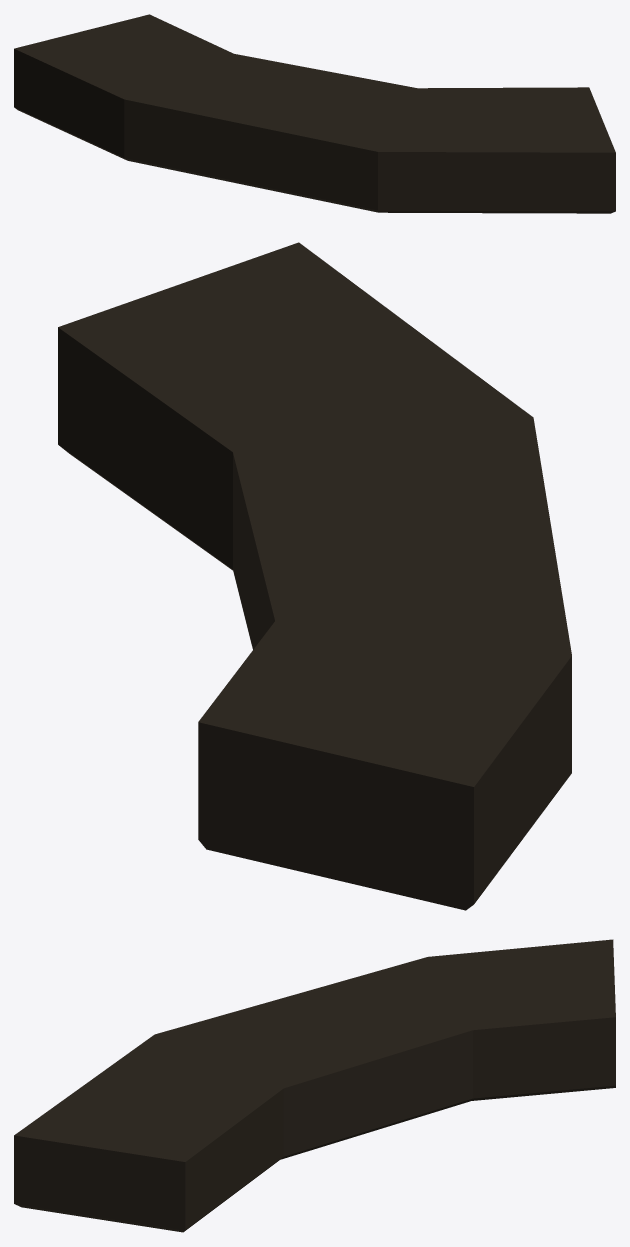
File: rifle-mag.glb
The picture shows the model from 3 angles, top to bottom: view 1: azimuth 30°, elevation 25°; view 2: azimuth 150°, elevation 25°; view 3: azimuth 270°, elevation 25°; orthographic projection. The views are drawn at different scales.
Visible parts, largest first — view 1: mag.001; view 2: mag.001; view 3: mag.001.
Boxes of the visible parts, x1=… form: mag.001: x1=14, y1=14, x2=615, y2=213; mag.001: x1=58, y1=242, x2=571, y2=910; mag.001: x1=14, y1=939, x2=615, y2=1232.
Bounding box in the file's own units: 0.3005 × 0.046 × 0.3433.
Materials: 1 (1 with a texture image).
